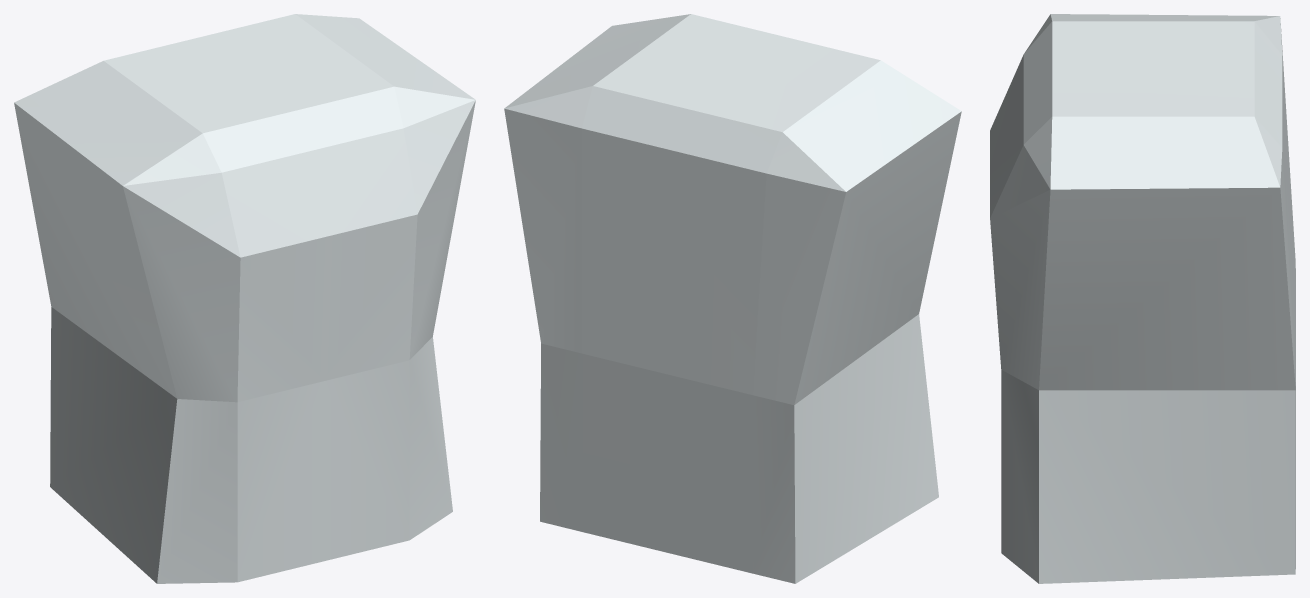
File: Base Cloth.fbx
The picture shows the model from 3 angles, left to right: view 1: azimuth 30°, elevation 25°; view 2: azimuth 150°, elevation 25°; view 3: azimuth 270°, elevation 25°; orthographic projection. The views are drawn at different scales.
Parts seen in each view (by area): view 1: Cloth_Body; view 2: Cloth_Body; view 3: Cloth_Body.
Boxes of the visible parts, bbox=[...] form: Cloth_Body: bbox=[14, 14, 475, 583]; Cloth_Body: bbox=[504, 14, 961, 583]; Cloth_Body: bbox=[990, 14, 1295, 583].
Bounding box in the file's own units: 32.79 × 38.43 × 24.14.
1 material, 1 textured.
